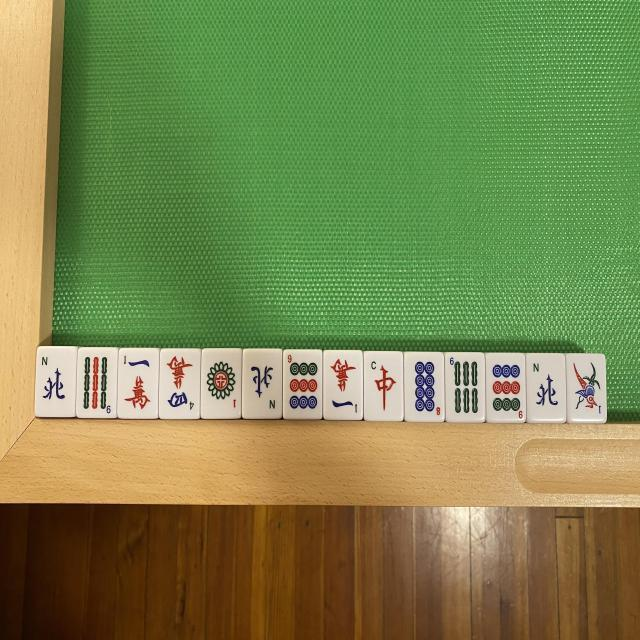hdr: (363, 356, 401, 422)
hwn: (38, 351, 78, 419), (246, 349, 284, 416), (529, 354, 566, 420)
sb1: (568, 356, 606, 422)
sb6: (444, 356, 482, 424)
sb9: (78, 350, 114, 418)
sc1: (120, 351, 160, 418), (326, 354, 364, 420)
sc4: (161, 352, 200, 418)
sd1: (202, 352, 241, 418)
sd8: (407, 352, 444, 420)
sd9: (488, 357, 526, 423), (284, 350, 320, 418)
